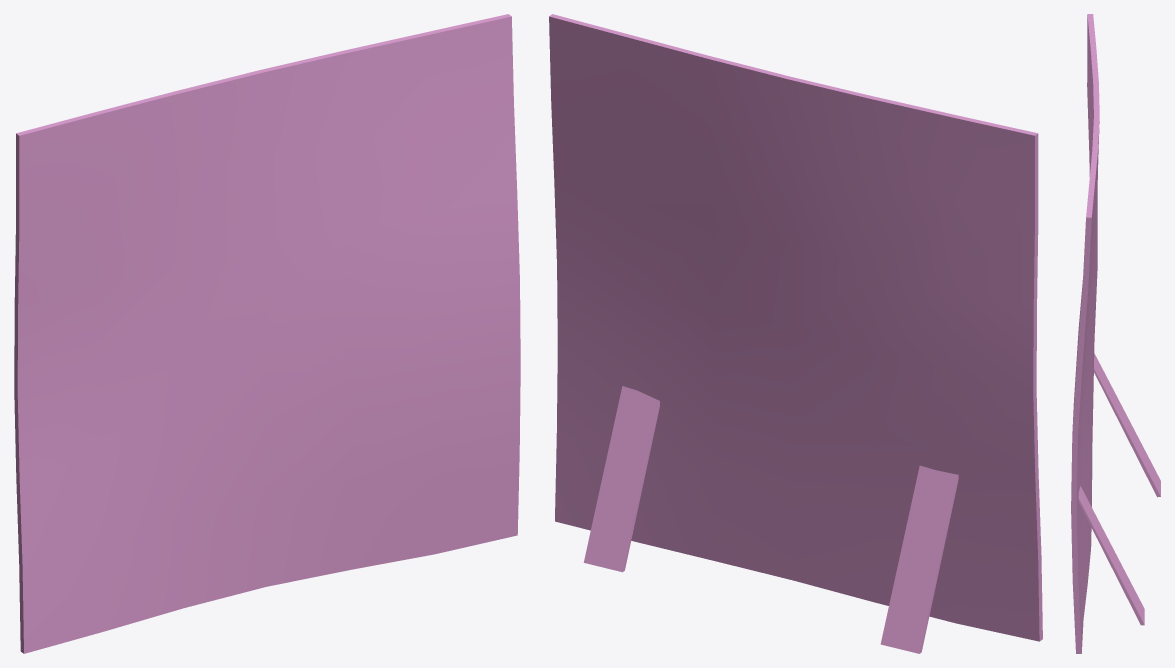
File: Mur 3.fbx
3 views of the same model, side by side, from view 1: azimuth 30°, elevation 25°; view 2: azimuth 150°, elevation 25°; view 3: azimuth 270°, elevation 25° (orthographic). The views are drawn at different scales.
Visible parts, largest first — view 1: pasted__Mur1; view 2: pasted__Mur1, pasted__Soutient1, pasted__Soutient2; view 3: pasted__Mur1, pasted__Soutient1, pasted__Soutient2.
Boxes of the visible parts, left/top/right/bottom form: pasted__Mur1: left=14, top=14, right=520, bottom=653; pasted__Mur1: left=549, top=14, right=1042, bottom=641; pasted__Soutient1: left=880, top=465, right=958, bottom=653; pasted__Soutient2: left=583, top=386, right=659, bottom=572; pasted__Mur1: left=1071, top=14, right=1099, bottom=653; pasted__Soutient1: left=1093, top=353, right=1160, bottom=497; pasted__Soutient2: left=1078, top=486, right=1144, bottom=625.
Bounding box in the file's own units: 250 × 250 × 46.68.
